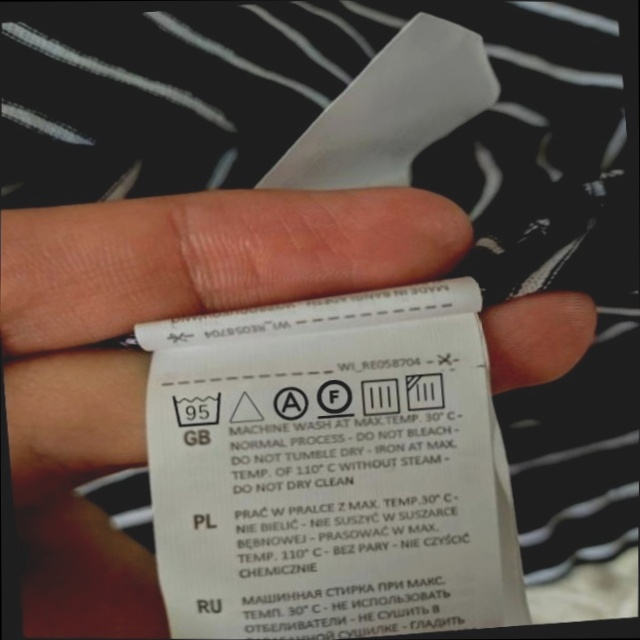95C: (170, 388, 227, 430)
bleach: (227, 384, 264, 427)
drip_dry: (358, 374, 404, 418)
drip_dry_in_shade: (405, 369, 452, 415)
dry_clean: (269, 384, 310, 422)
dry_clean_petrol_only: (315, 373, 356, 421)
